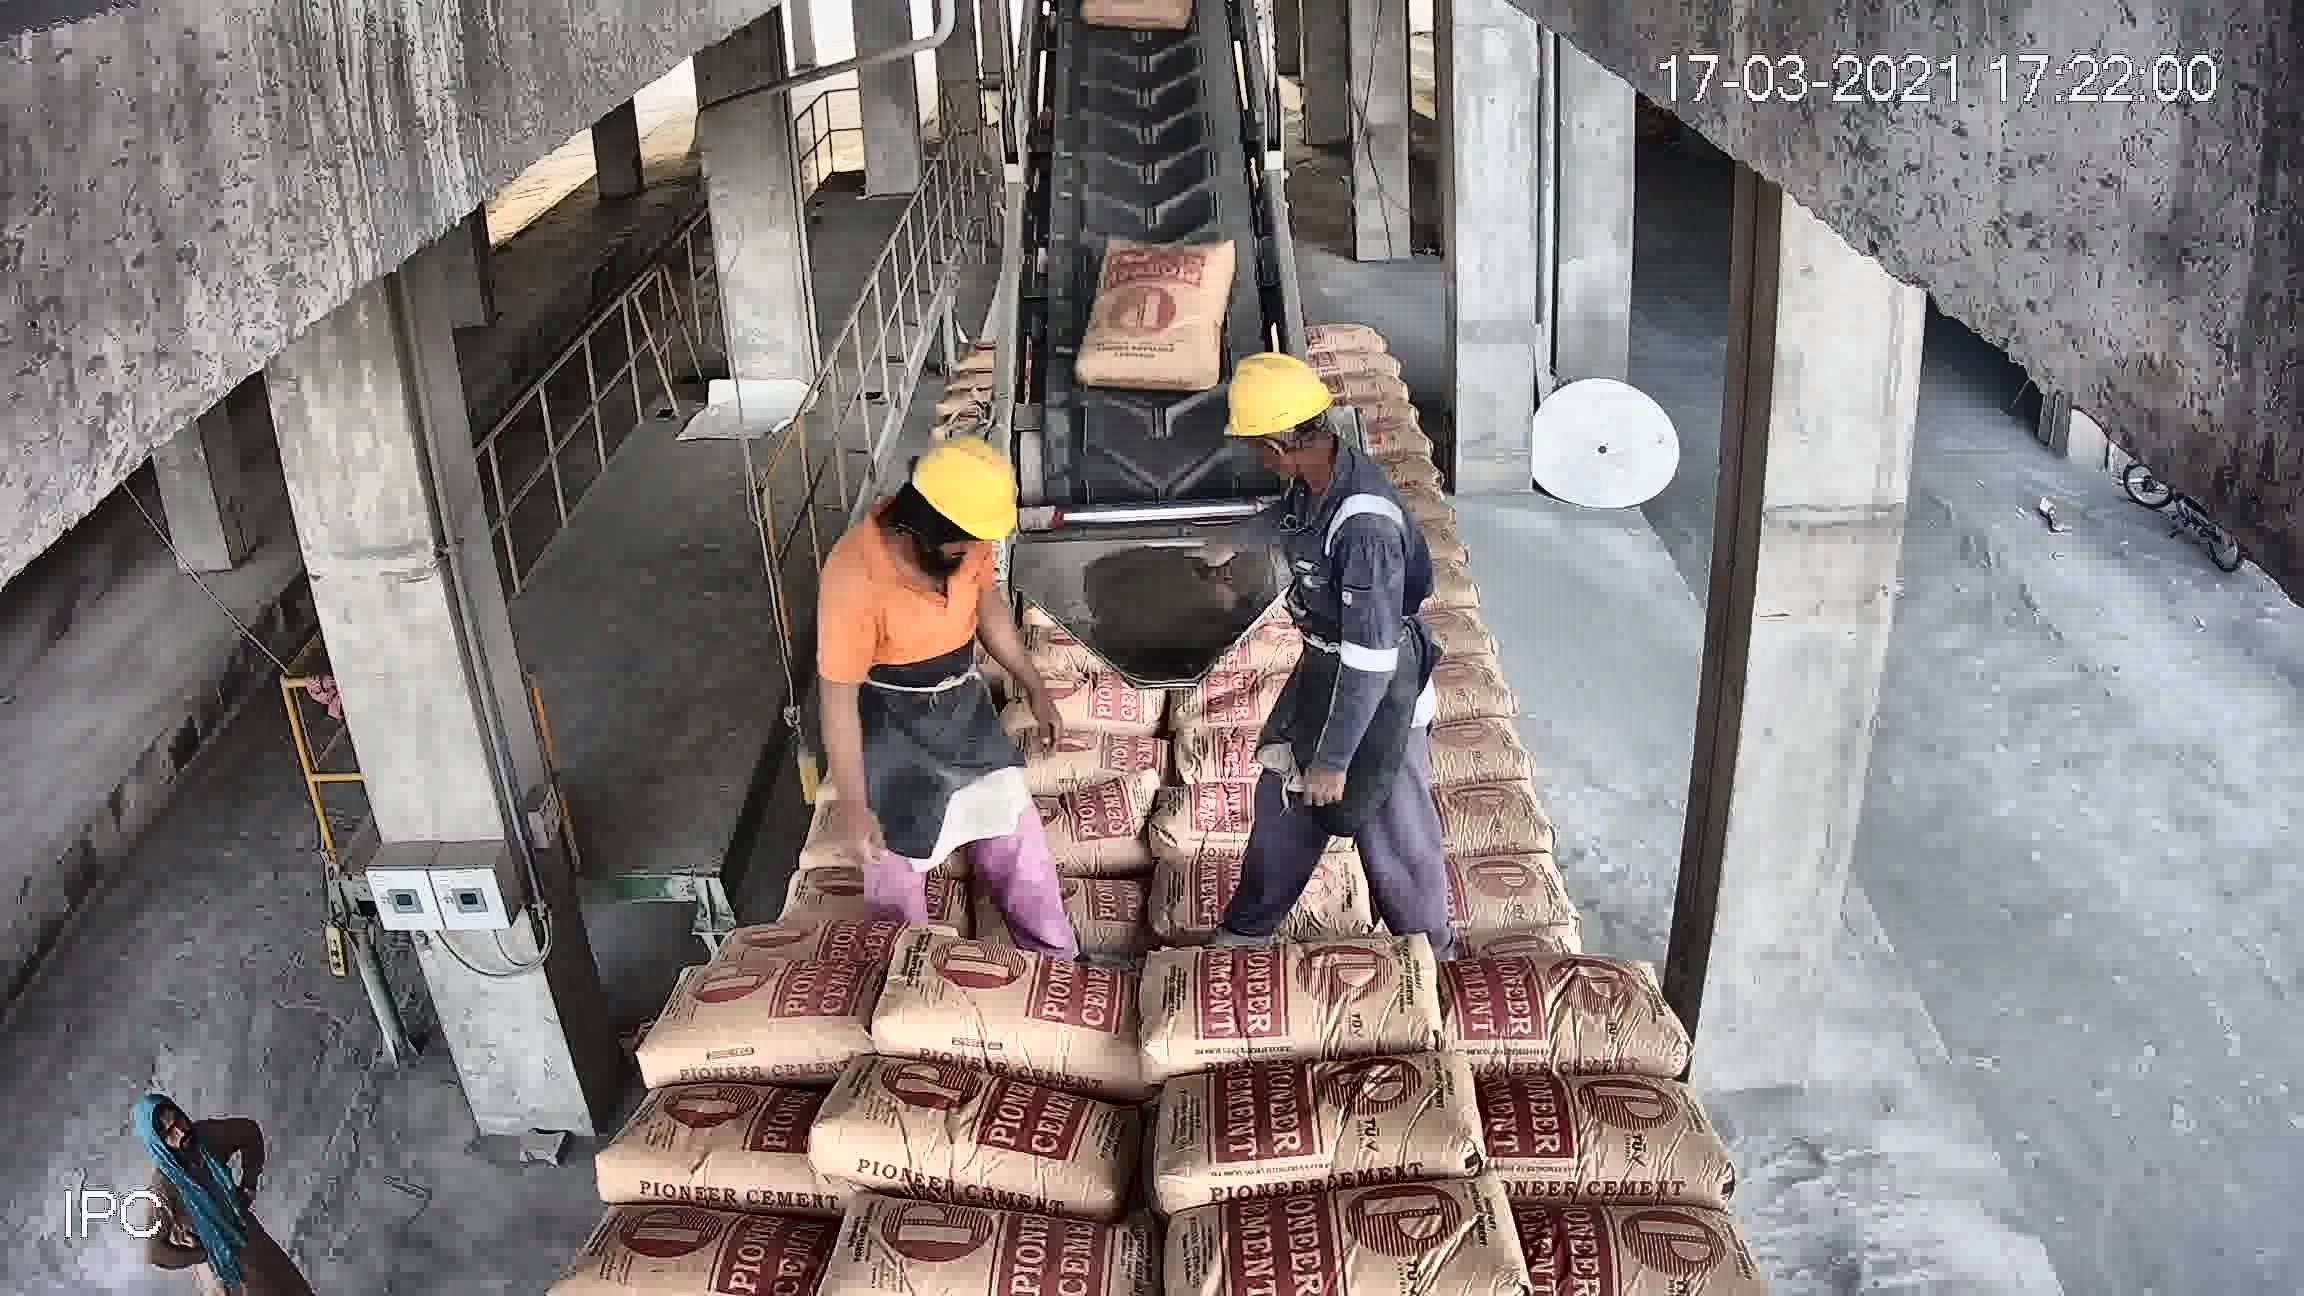bag: (1087, 97, 1211, 199), (1087, 6, 1199, 95)
bag_h: (1160, 1044, 1522, 1185), (1119, 918, 1446, 1063), (1184, 1168, 1556, 1296), (1131, 820, 1438, 946), (812, 1074, 1138, 1182), (856, 961, 1143, 1073), (1445, 940, 1684, 1071), (1133, 729, 1402, 839), (907, 840, 1166, 948), (604, 1086, 823, 1207), (815, 1215, 1144, 1296), (1480, 1074, 1728, 1176), (559, 1222, 872, 1291), (889, 763, 1139, 850), (1494, 1214, 1752, 1291), (639, 965, 858, 1055), (679, 864, 907, 948), (1453, 851, 1636, 948), (1396, 755, 1586, 847), (714, 790, 907, 870), (1022, 652, 1173, 733), (1336, 555, 1478, 631), (1038, 619, 1173, 680), (1407, 698, 1529, 766), (1021, 573, 1180, 623), (1407, 657, 1522, 715), (1377, 606, 1487, 660), (785, 739, 908, 782)
belt: (1005, 0, 1293, 517)
